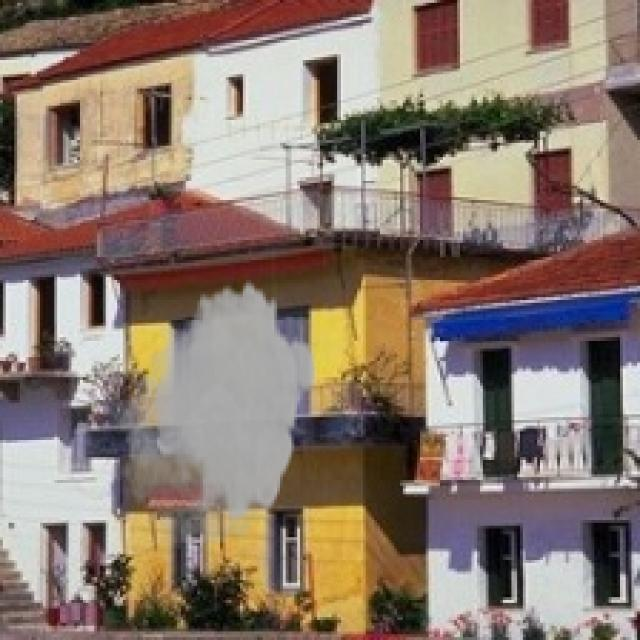smoke: (112, 277, 317, 543)
